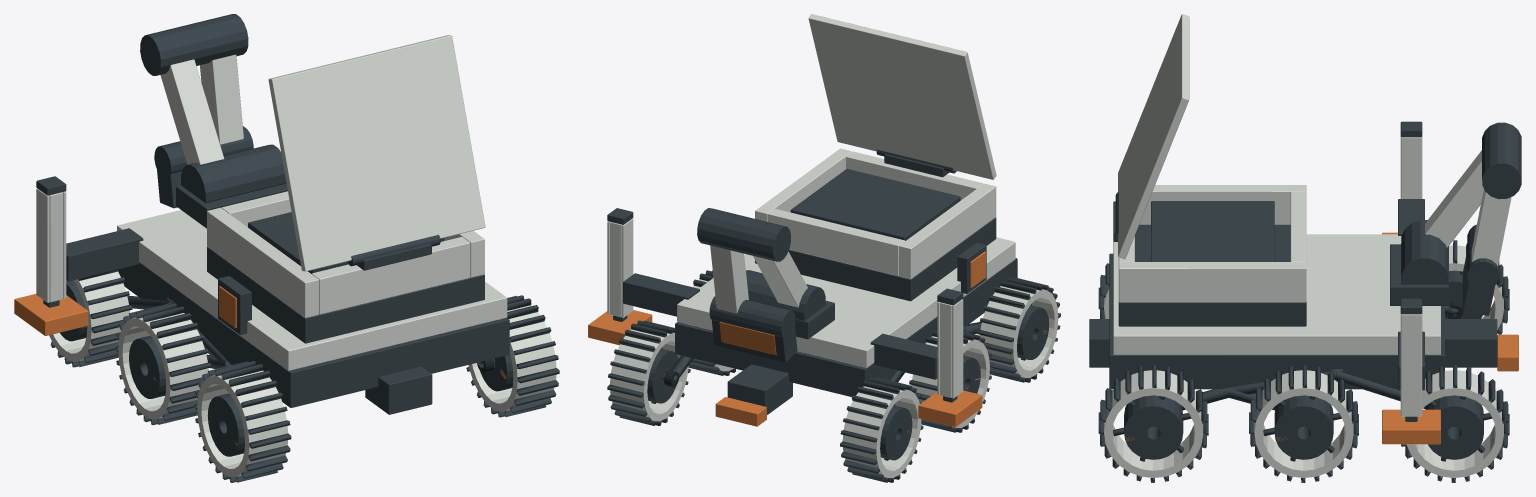
The model's file is zhulei-maintenance.glb.
3 views of the same model, side by side, from view 1: azimuth 30°, elevation 25°; view 2: azimuth 150°, elevation 25°; view 3: azimuth 270°, elevation 25° (orthographic). The views are drawn at different scales.
Visible parts, largest first — view 1: HoodLidPanel, BodyShell, FrameBed, Wheel_LR, Wheel_LM, RearFloor, Wheel_RR, RearWallBack, RearWallL, Wheel_LF, ElbowAxle, ShoulderAxle (+17 smaller); view 2: HoodLidPanel, BodyShell, ProtectedModule, FrameBed, Wheel_LF, Wheel_LR, Wheel_RF, RearWallFront, RearFloor, RearWallL, ElbowAxle, Wheel_LM (+22 smaller); view 3: BodyShell, Wheel_RR, Wheel_RM, Wheel_RF, FrameBed, RearWallR, ProtectedModule, HoodLidPanel, RearFloor, RearWallL, ElbowAxle, ShoulderAxle (+17 smaller).
Boxes of the visible parts, x1,y1,x2,y2 form: HoodLidPanel: [268, 35, 485, 271]; BodyShell: [117, 210, 507, 370]; FrameBed: [118, 262, 509, 407]; Wheel_LR: [194, 361, 291, 482]; Wheel_LM: [115, 303, 211, 425]; RearFloor: [207, 246, 484, 343]; Wheel_RR: [466, 295, 559, 417]; RearWallBack: [312, 237, 470, 314]; RearWallL: [207, 207, 319, 317]; Wheel_LF: [49, 269, 132, 367]; ElbowAxle: [140, 14, 248, 75]; ShoulderAxle: [181, 144, 286, 203]; HoodLidPanel: [808, 14, 996, 179]; BodyShell: [677, 237, 1015, 367]; ProtectedModule: [790, 169, 960, 240]; FrameBed: [675, 258, 1017, 396]; Wheel_LF: [840, 377, 923, 482]; Wheel_LR: [977, 277, 1060, 382]; Wheel_RF: [607, 320, 690, 425]; RearWallFront: [767, 209, 904, 275]; RearFloor: [755, 217, 996, 301]; RearWallL: [899, 183, 996, 279]; ElbowAxle: [697, 208, 790, 261]; Wheel_LM: [909, 330, 992, 432]; BodyShell: [1113, 234, 1440, 354]; Wheel_RR: [1098, 365, 1208, 482]; Wheel_RM: [1249, 365, 1358, 482]; Wheel_RF: [1401, 365, 1509, 482]; FrameBed: [1109, 253, 1444, 389]; RearWallR: [1118, 262, 1306, 302]; ProtectedModule: [1151, 201, 1274, 261]; HoodLidPanel: [1118, 14, 1189, 259]; RearFloor: [1118, 225, 1306, 326]; RearWallL: [1139, 185, 1306, 224]; ElbowAxle: [1482, 122, 1521, 199]; ShoulderAxle: [1401, 220, 1448, 284].
Size of the model in its own units: 1.74 by 1.46 by 1.61.
